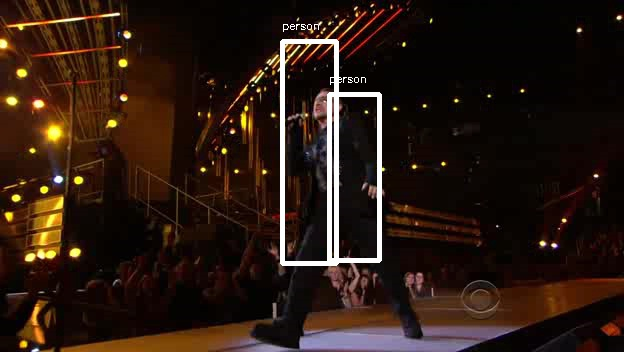person: (289, 87, 384, 258), (286, 87, 381, 258), (292, 87, 387, 258), (289, 84, 384, 255), (289, 90, 384, 261)
target_negative: (3, 234, 494, 291), (572, 91, 624, 306), (483, 304, 593, 343), (614, 208, 624, 346), (538, 290, 561, 317), (274, 316, 332, 320)
